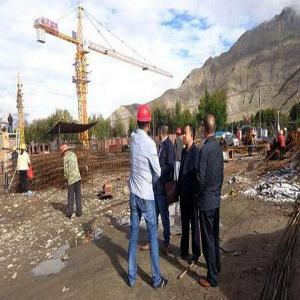none: (203, 114, 218, 142), (184, 123, 196, 147), (159, 123, 170, 144)
red: (137, 104, 152, 136), (62, 143, 70, 159), (176, 127, 182, 140)
